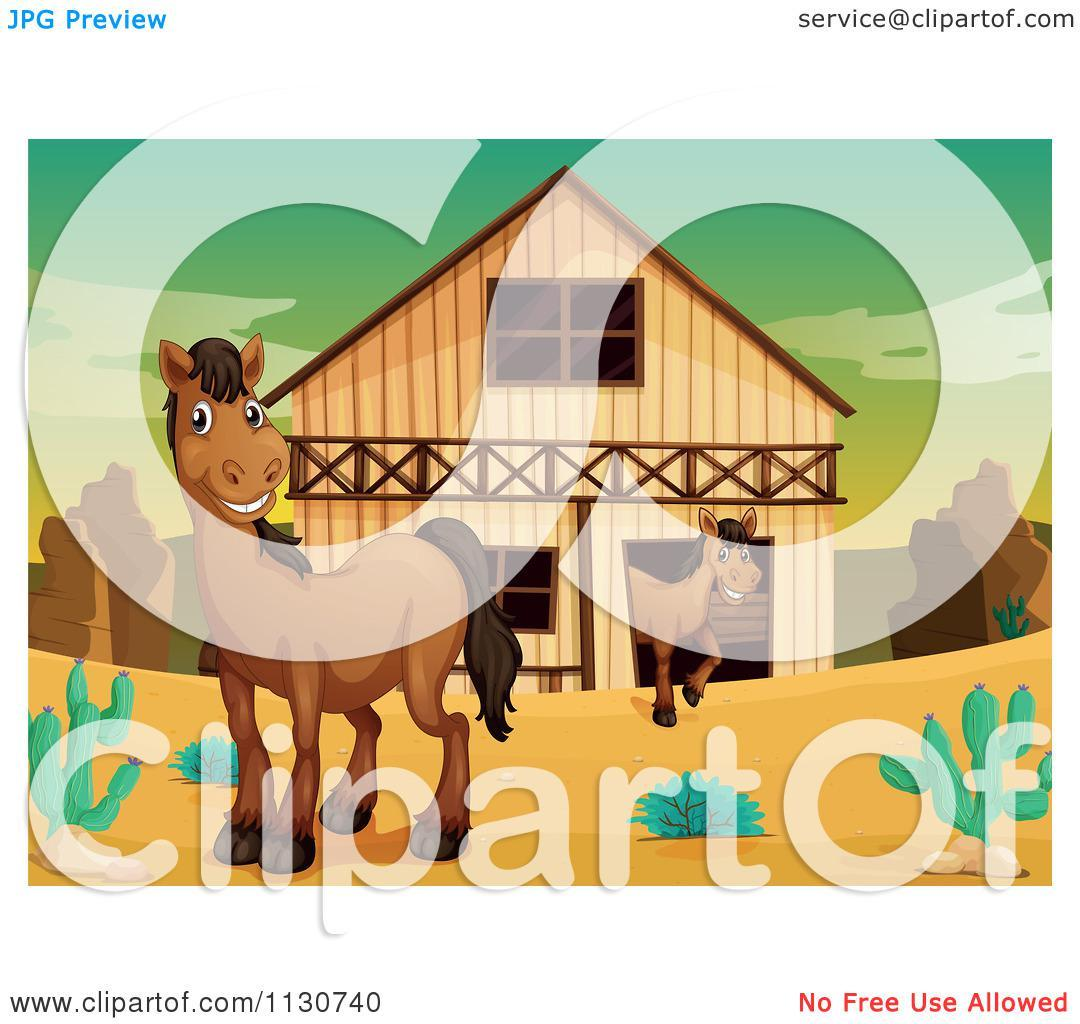horse: (153, 328, 528, 856), (609, 513, 767, 735)
